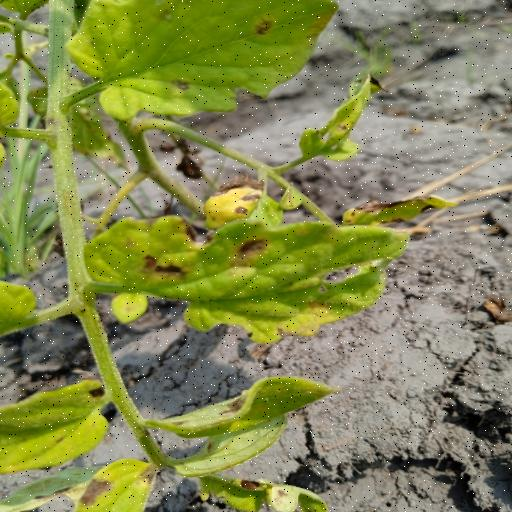Tomato_Brown_Spots: (79, 210, 416, 346), (63, 0, 345, 126)
